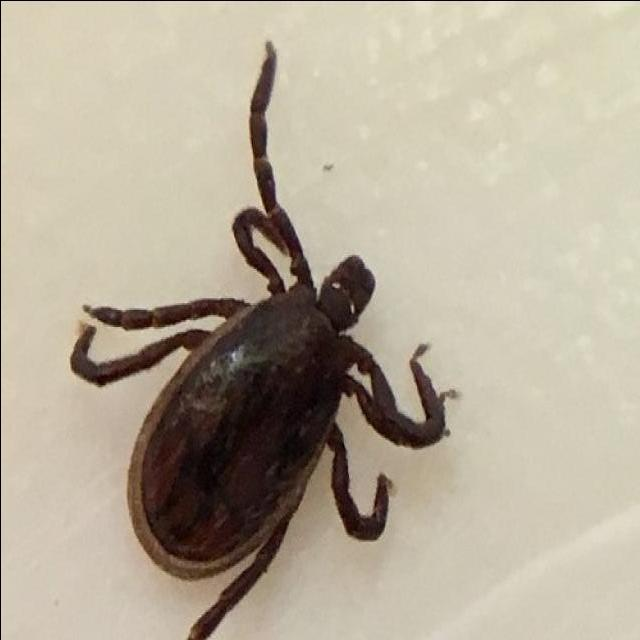Ixodes Ricinus-M: (67, 39, 449, 640)
